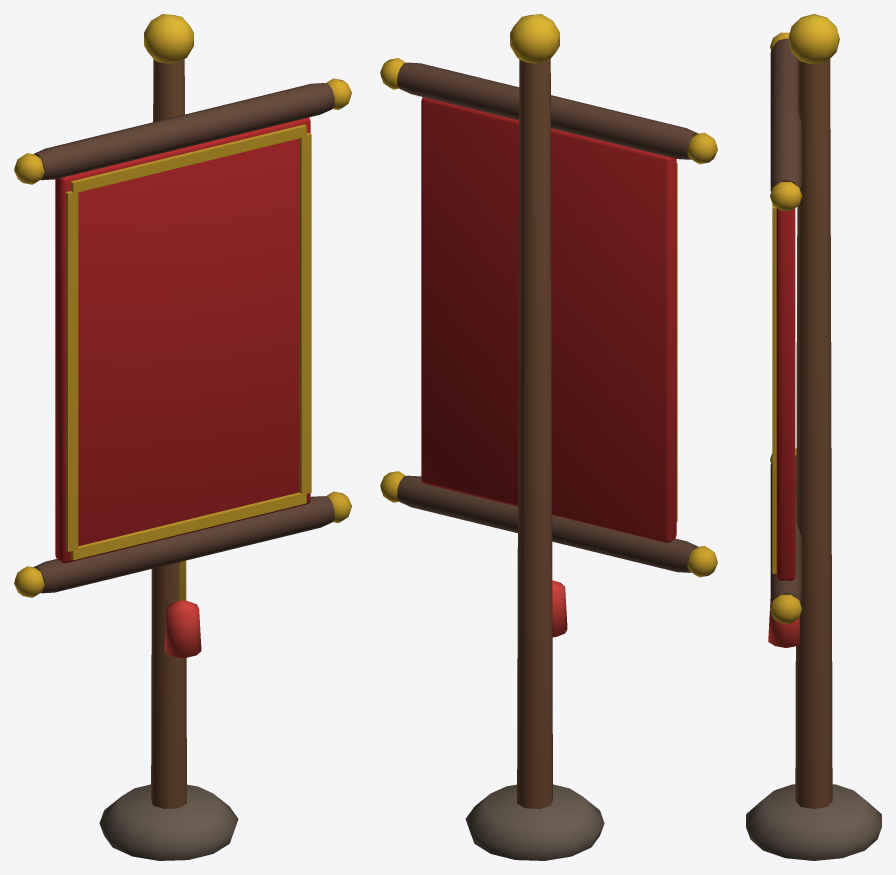
The model's file is fe-caudoi.glb.
The picture shows the model from 3 angles, left to right: view 1: azimuth 30°, elevation 25°; view 2: azimuth 150°, elevation 25°; view 3: azimuth 270°, elevation 25°; orthographic projection.
Visible parts, largest first — view 1: fe-caudoi; view 2: fe-caudoi; view 3: fe-caudoi.
Boxes of the visible parts, bbox=[...] form: fe-caudoi: bbox=[14, 14, 351, 860]; fe-caudoi: bbox=[380, 14, 717, 860]; fe-caudoi: bbox=[746, 14, 881, 860].
Bounding box in the file's own units: 0.8266 × 1.94 × 0.2925.
